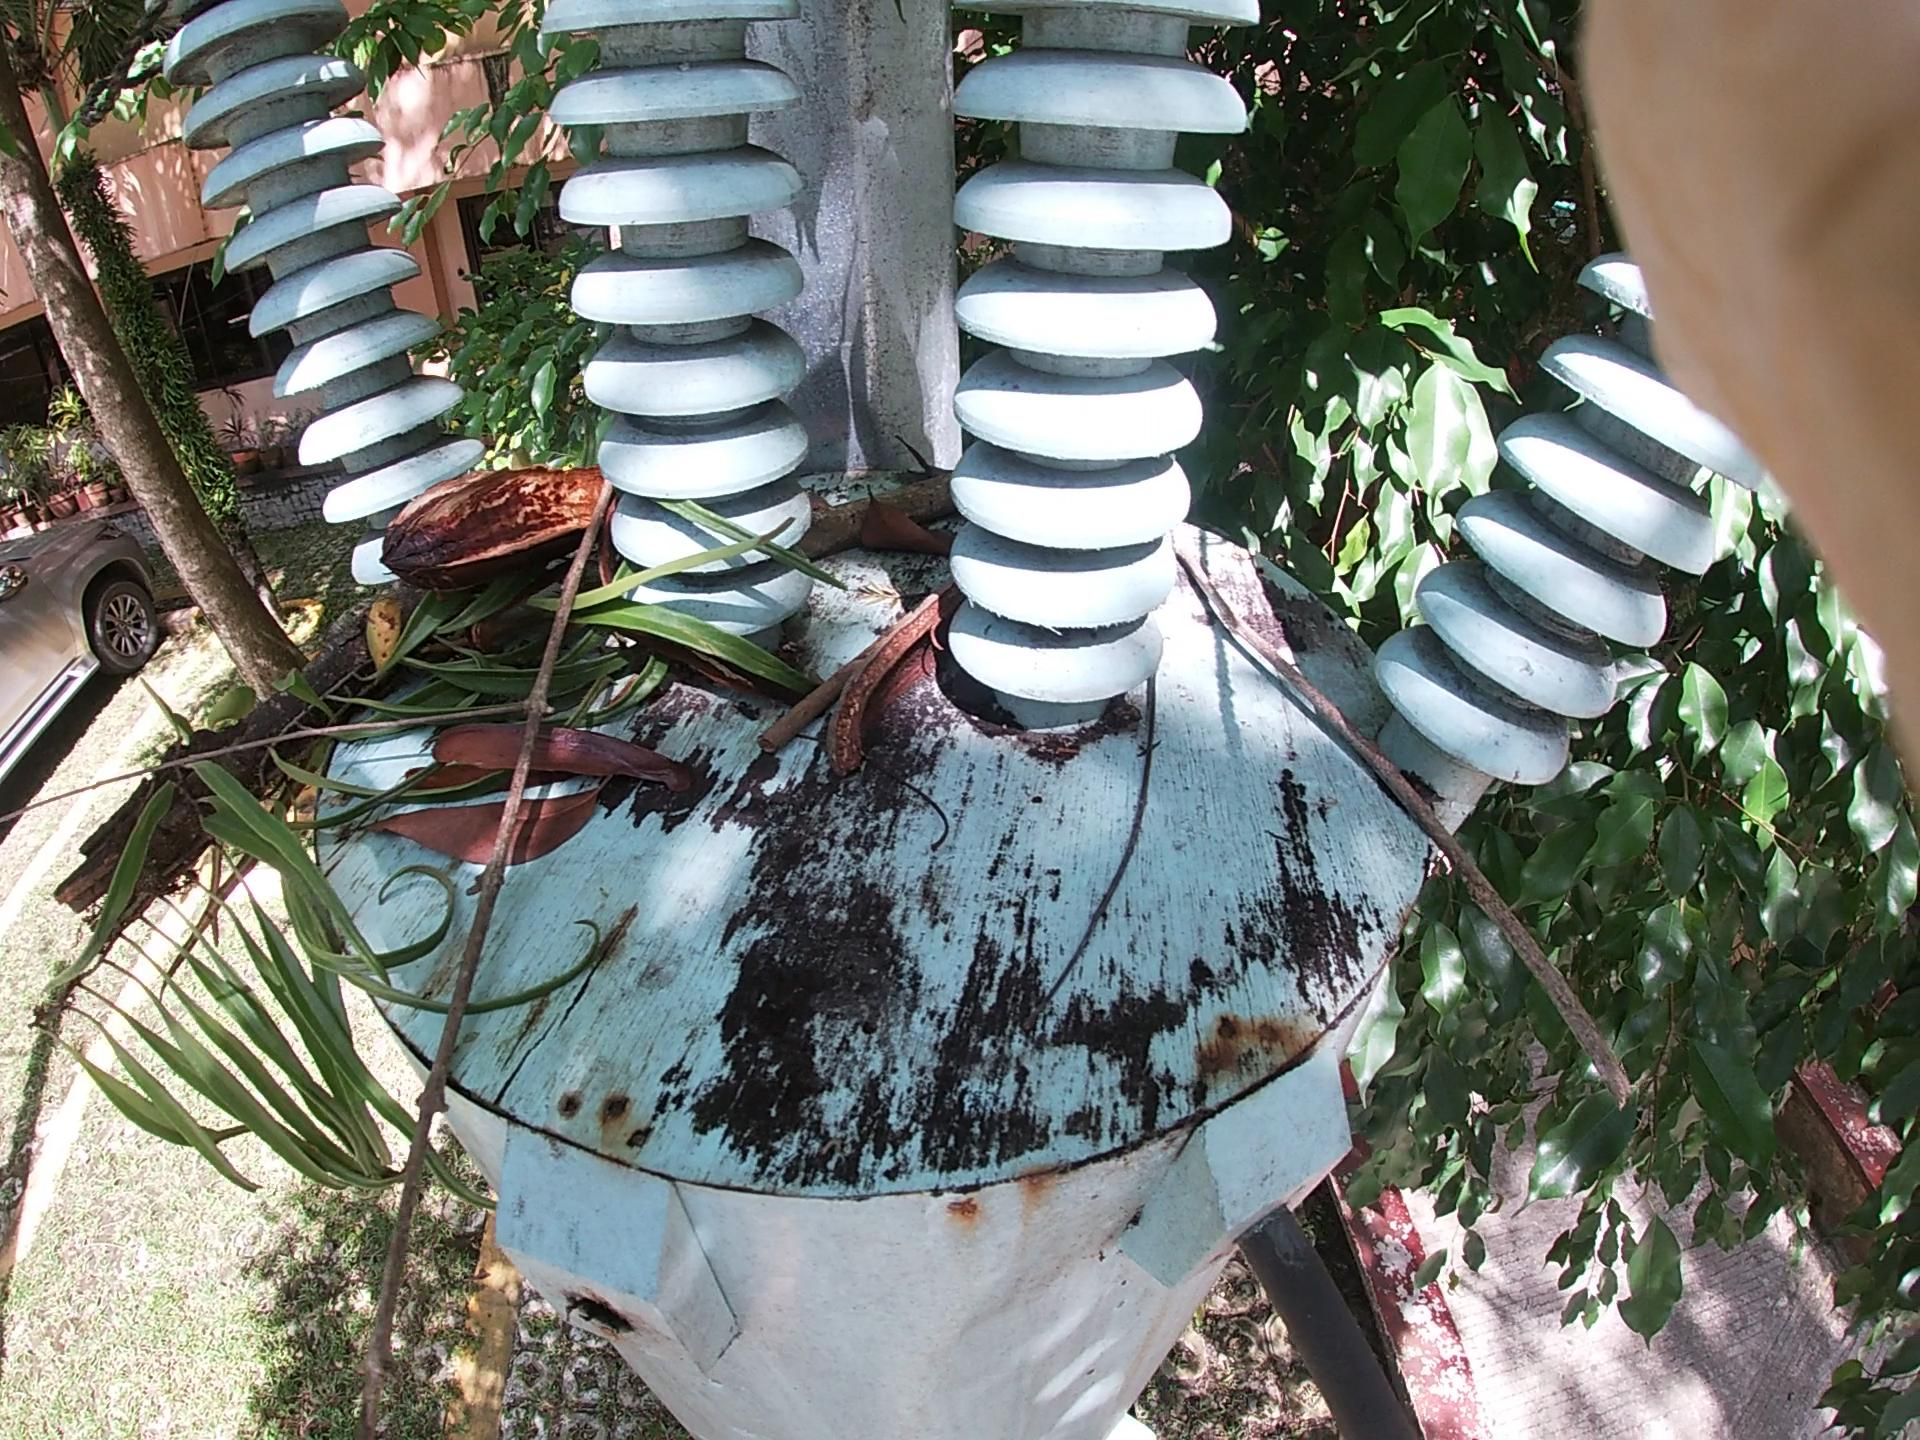branch with leaves: (45, 296, 1175, 929)
leaf: (428, 711, 717, 992), (869, 486, 977, 635)
mahogany fruit: (807, 513, 968, 790), (395, 414, 639, 563)
tree branch: (1196, 570, 1606, 1128), (351, 523, 617, 1366), (705, 546, 1108, 773)
